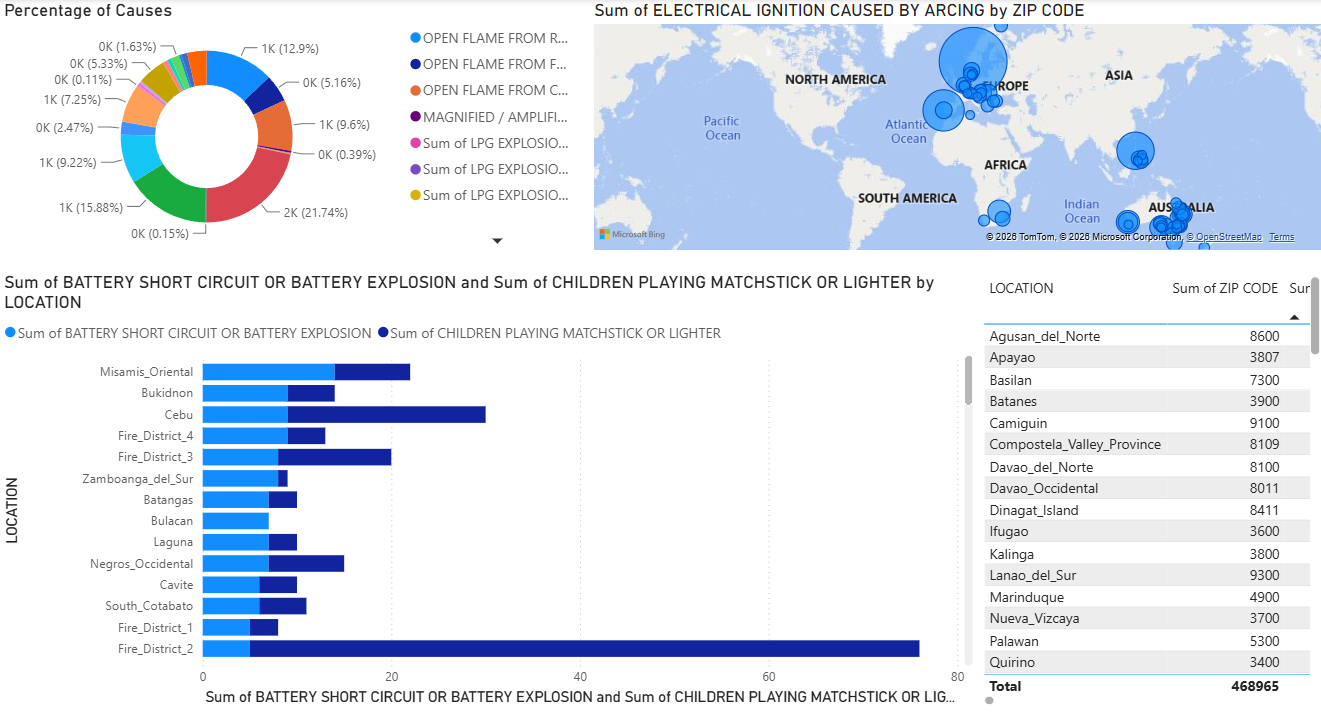

What the dashboard file says about the page in this screenshot:
{"tool":"powerbi","page":{"name":"2020","canvas":[1280,720],"ordinal":0},"visuals":[{"type":"donutChart","title":"Percentage of Causes","fields":{"Y":["Sum(JAN-DEC 2020 (3).OPEN FLAME FROM RUBBISH FIRE / BONFIRE TO STRUCTURAL FIRE)","Sum(JAN-DEC 2020 (3).OPEN FLAME FROM FARMLAND / AGRICULTURAL LAND CLEARING OPERATION)","Sum(JAN-DEC 2020 (3).OPEN FLAME FROM COOKING (LPG / GAS STOVE, FIREWOOD))","Sum(JAN-DEC 2020 (3).MAGNIFIED / AMPLIFIED SUN RAYS)","Sum(JAN-DEC 2020 (3).LPG EXPLOSION CAUSED BY DEFECTIVE TANK)","Sum(JAN-DEC 2020 (3).LPG EXPLOSION CAUSED BY STATIC ELECTRICITY OR SPARK)","Sum(JAN-DEC 2020 (3).LPG EXPLOSION CAUSED BY DEFECTIVE STOVE)","Sum(JAN-DEC 2020 (3).ELECTRICAL IGNITION CAUSED BY ARCING)","Sum(JAN-DEC 2020 (3).LPG EXPLOSION CAUSED BY DEFECTIVE REGULATOR)","Sum(JAN-DEC 2020 (3).ELECTRICAL IGNITION CAUSED BY LOOSED CONNECTION)","Sum(JAN-DEC 2020 (3).ELECTRICAL IGNITION CAUSED BY OVERLOADING)","Sum(JAN-DEC 2020 (3).ELECTRICAL IGNITION DUE TO PINCHED WIRE)"]},"box":[0,0,569.2,246.7],"z":0},{"type":"barChart","fields":{"Category":["JAN-DEC 2020 (3).LOCATION"],"Y":["Sum(JAN-DEC 2020 (3).BATTERY SHORT CIRCUIT OR BATTERY EXPLOSION)","Sum(JAN-DEC 2020 (3).CHILDREN PLAYING MATCHSTICK OR LIGHTER)"]},"box":[0,263.3,945,423.3],"z":1000},{"type":"map","fields":{"Category":["JAN-DEC 2020 (3).ZIP CODE"],"Size":["Sum(JAN-DEC 2020 (3).ELECTRICAL IGNITION CAUSED BY ARCING)"]},"box":[569.2,0,711.1,246.7],"z":2000},{"type":"tableEx","fields":{"Values":["JAN-DEC 2020 (3).LOCATION","Sum(JAN-DEC 2020 (3).ZIP CODE)","Sum(JAN-DEC 2020 (3).ELECTRICAL IGNITION CAUSED BY ARCING)","Sum(JAN-DEC 2020 (3).ELECTRICAL IGNITION CAUSED BY LOOSED CONNECTION)","Sum(JAN-DEC 2020 (3).ELECTRICAL IGNITION CAUSED BY OVERLOADING)","Sum(JAN-DEC 2020 (3).ELECTRICAL IGNITION DUE TO PINCHED WIRE)","Sum(JAN-DEC 2020 (3).ELECTRICAL POST FIRE TO STRUCTURAL FIRE)","Sum(JAN-DEC 2020 (3).FIRE CAUSED BY LIGHTNING)","Sum(JAN-DEC 2020 (3).FIRE INCIDENT UNDER INVESTIGATION (ON PROCESS))","Sum(JAN-DEC 2020 (3).IGNITION CAUSED BY FIRECRACKER EXPLOSION)","Sum(JAN-DEC 2020 (3).IGNITION CAUSED BY FIREWORKS / PYROTECHNICS EXPLOSION)","Sum(JAN-DEC 2020 (3).IGNITION OF MATERIAL CAUSED BY WELDING SLAGS)"]},"box":[945,263.3,335,423.3],"z":3000}]}

Visuals, with their boxes on the page's 1280x720 design canvas (x1, y1, x2, y2). These are canvas units, not pixel positions in the 1321x717 screenshot, which may show the page scaled, cropped or inside an application window:
"Percentage of Causes" donutChart: {"left": 0, "top": 0, "right": 569, "bottom": 247}
barChart - JAN-DEC 2020 (3).LOCATION x Sum(JAN-DEC 2020 (3).BATTERY SHORT CIRCUIT OR BATTERY EXPLOSION): {"left": 0, "top": 263, "right": 945, "bottom": 687}
map - JAN-DEC 2020 (3).ZIP CODE x Sum(JAN-DEC 2020 (3).ELECTRICAL IGNITION CAUSED BY ARCING): {"left": 569, "top": 0, "right": 1280, "bottom": 247}
tableEx - JAN-DEC 2020 (3).LOCATION x Sum(JAN-DEC 2020 (3).ZIP CODE): {"left": 945, "top": 263, "right": 1280, "bottom": 687}
